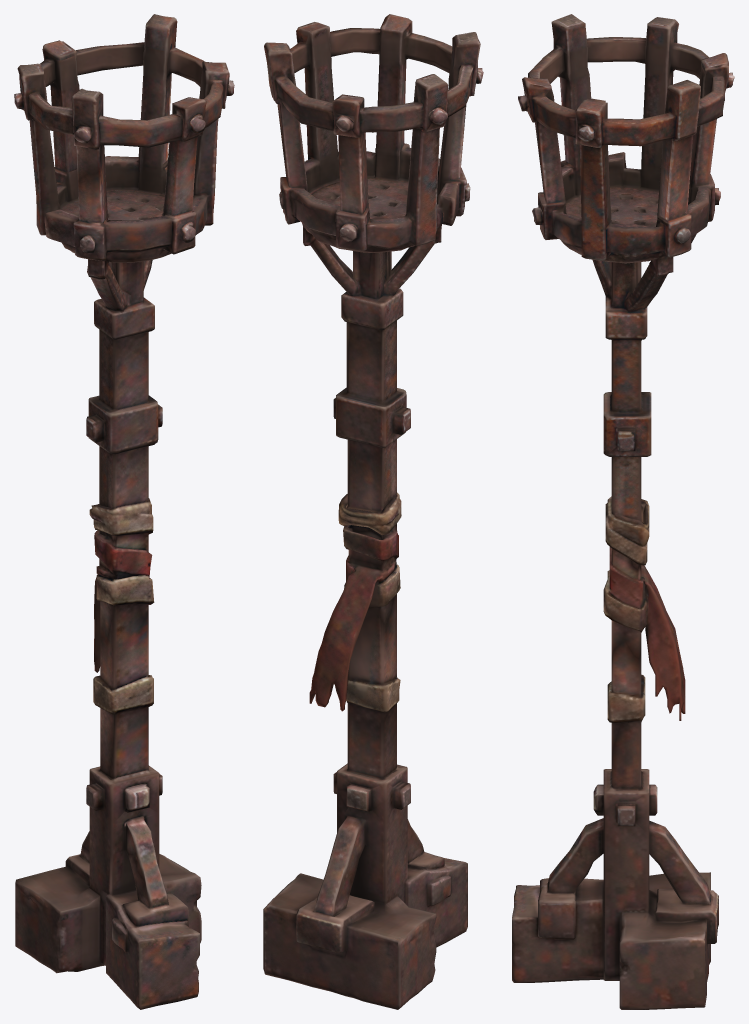
Rendered from brazier_pole.glb.
3 renders of one model, left to right at view 1: azimuth 30°, elevation 25°; view 2: azimuth 150°, elevation 25°; view 3: azimuth 270°, elevation 25°, orthographic.
Parts seen in each view (by area): view 1: tripo_node_1643374e-58f6-4fdb-8a00-49fc8ec62545; view 2: tripo_node_1643374e-58f6-4fdb-8a00-49fc8ec62545; view 3: tripo_node_1643374e-58f6-4fdb-8a00-49fc8ec62545.
Part boxes in pixels (bbox=[...]): tripo_node_1643374e-58f6-4fdb-8a00-49fc8ec62545: bbox=[14, 14, 234, 1009]; tripo_node_1643374e-58f6-4fdb-8a00-49fc8ec62545: bbox=[263, 14, 483, 1009]; tripo_node_1643374e-58f6-4fdb-8a00-49fc8ec62545: bbox=[512, 14, 734, 1009].
Size of the model in its own units: 0.2094 by 1 by 0.2192.
1 material, 1 textured.
